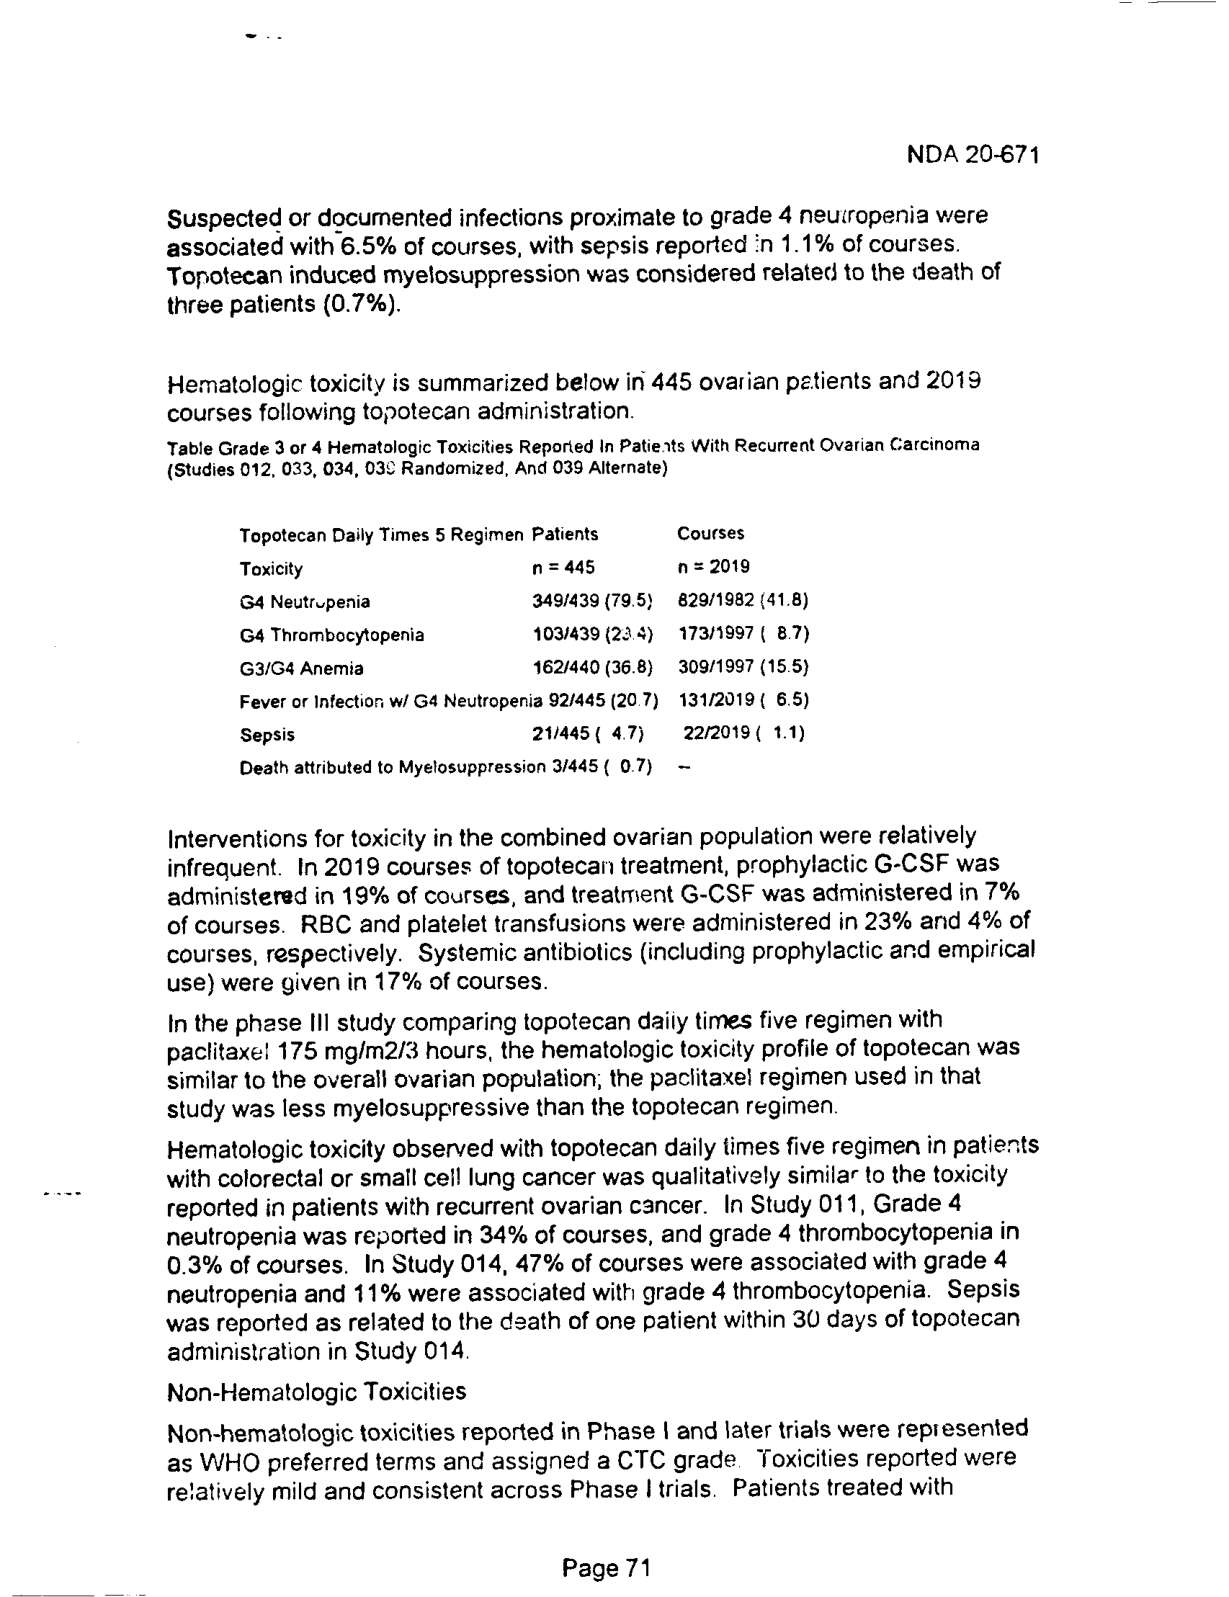nolines: (232, 522, 815, 778)
